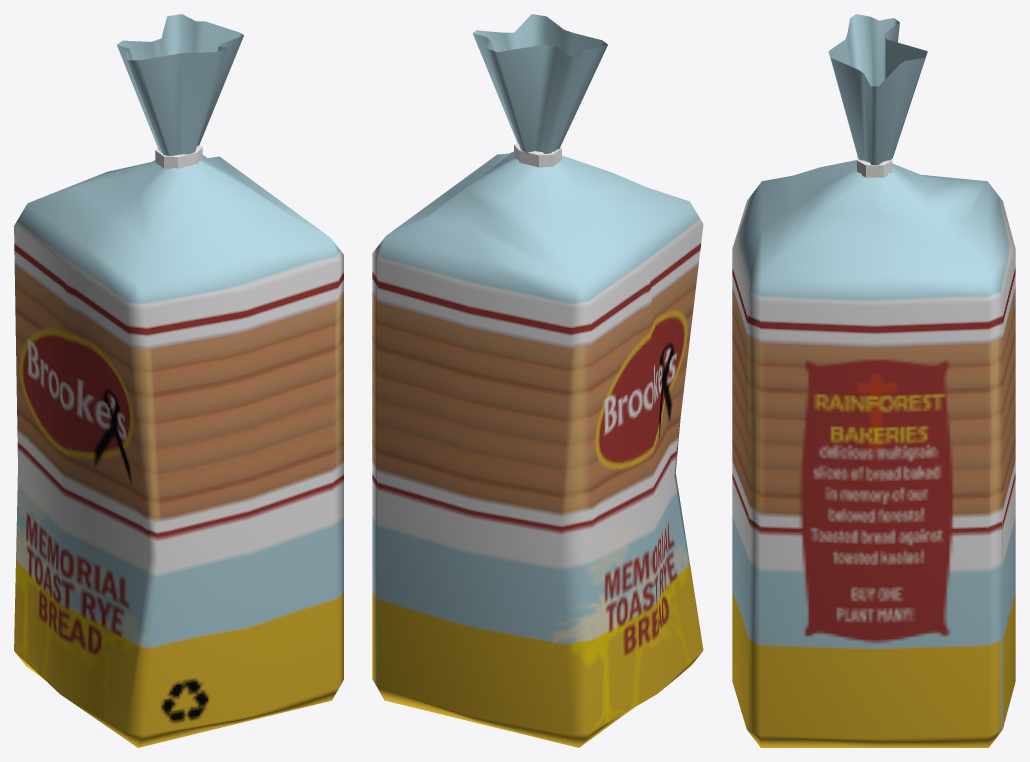
File: MemorialBread.fbx
3 renders of one model, left to right at view 1: azimuth 30°, elevation 25°; view 2: azimuth 150°, elevation 25°; view 3: azimuth 270°, elevation 25°, orthographic.
Visible parts, largest first — view 1: Bread_Bread; view 2: Bread_Bread; view 3: Bread_Bread.
Boxes of the visible parts, x1,y1,x2,y2 form: Bread_Bread: (14, 14, 343, 747); Bread_Bread: (372, 14, 703, 747); Bread_Bread: (732, 14, 1015, 747).
Size of the model in its own units: 3.7 by 9.73 by 3.81.
